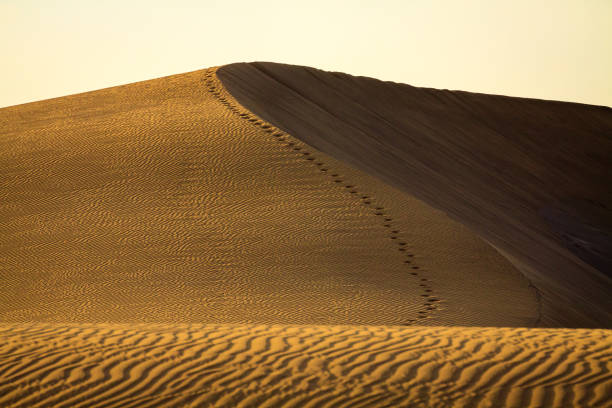animal_foot_print: (204, 68, 343, 184)
